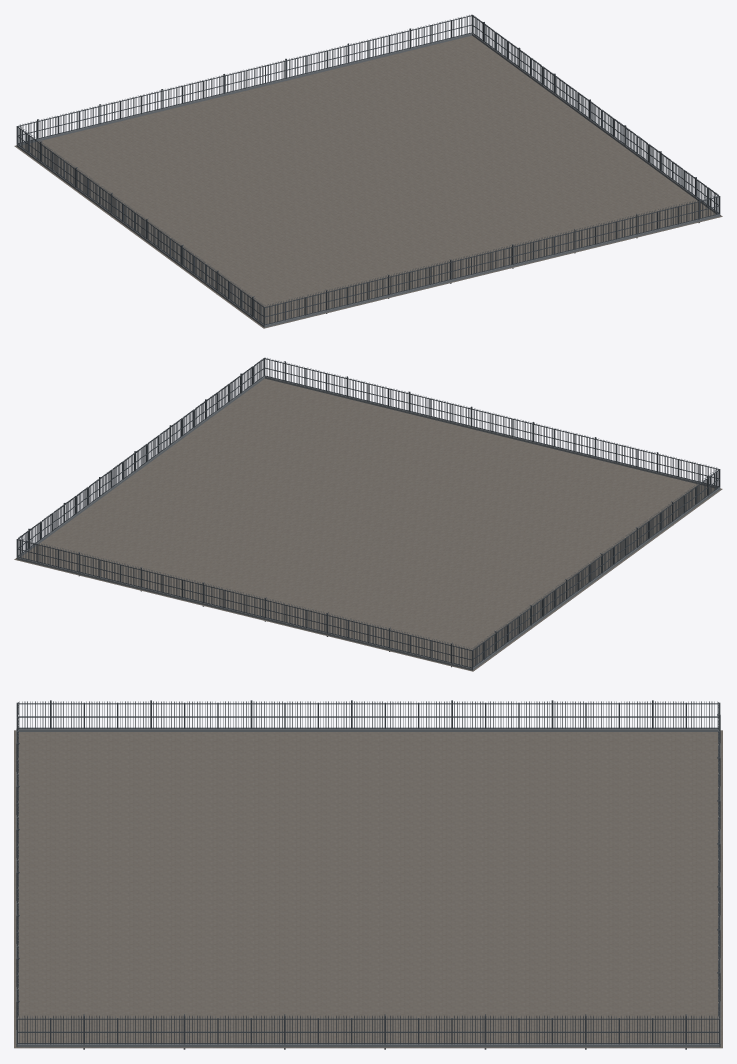
The model's file is starlight.glb.
3 renders of one model, top to bottom at view 1: azimuth 30°, elevation 25°; view 2: azimuth 150°, elevation 25°; view 3: azimuth 270°, elevation 25°, orthographic. The views are drawn at different scales.
Visible parts, largest first — view 1: Utility paving, Angled security tip, Continuous concrete footing; view 2: Utility paving, Angled security tip, Continuous concrete footing; view 3: Utility paving, Angled security tip, Continuous concrete footing.
Part boxes in pixels (x1,y1,x2,y2): Utility paving: (14, 35, 722, 328); Angled security tip: (16, 14, 720, 327); Continuous concrete footing: (16, 33, 719, 327); Utility paving: (14, 378, 722, 671); Angled security tip: (16, 357, 720, 670); Continuous concrete footing: (17, 376, 720, 670); Utility paving: (14, 730, 722, 1048); Angled security tip: (16, 700, 720, 1049); Continuous concrete footing: (16, 728, 720, 1047).
Size of the model in its own units: 172 by 8.58 by 162.
3 materials, 1 textured.
